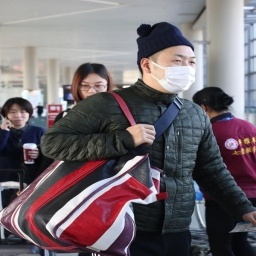correctlyWear: (140, 52, 196, 92)
noWear: (76, 77, 108, 103), (4, 106, 31, 125)
